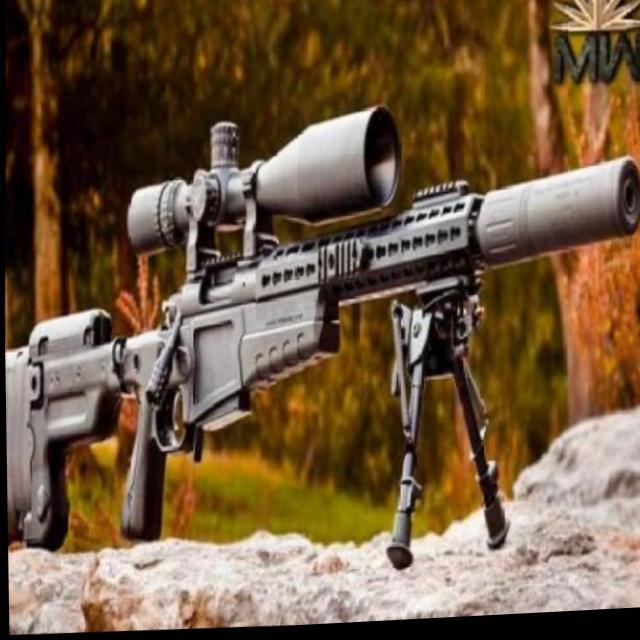weapon: (1, 90, 640, 592)
